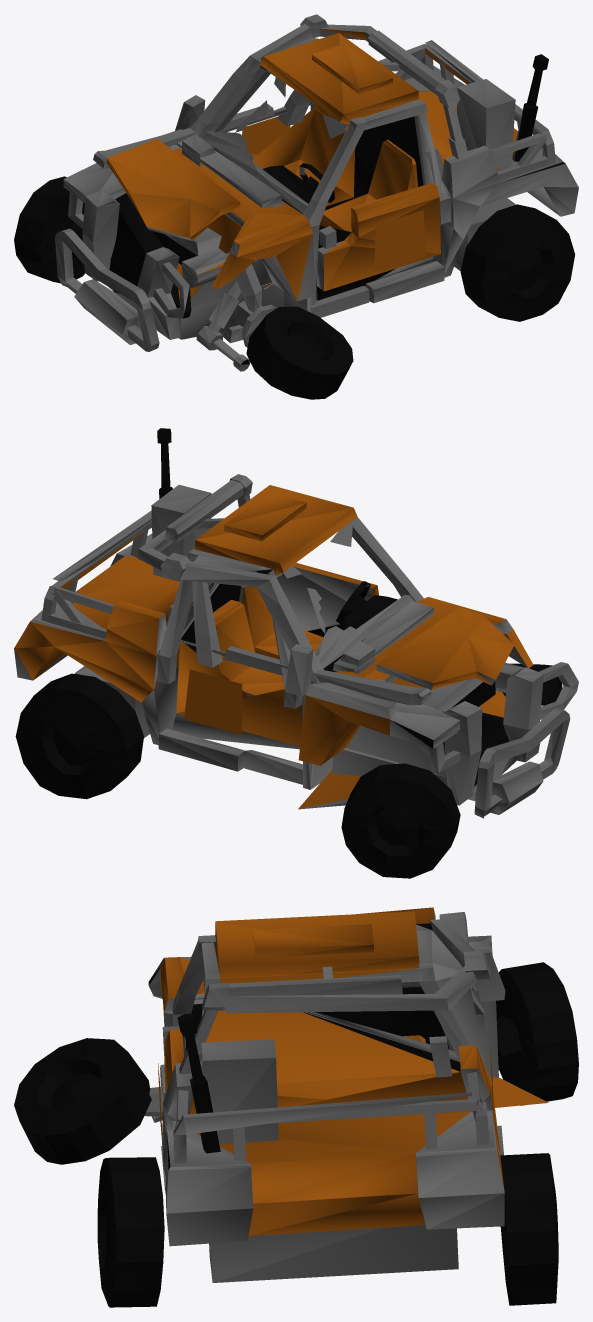
The model's file is wrecked car.glb.
The picture shows the model from 3 angles, top to bottom: view 1: azimuth 30°, elevation 25°; view 2: azimuth 150°, elevation 25°; view 3: azimuth 270°, elevation 25°; orthographic projection. The views are drawn at different scales.
Visible parts, largest first — view 1: tripo_node_a145ef11-974d-469f-96bf-1b57e0480147; view 2: tripo_node_a145ef11-974d-469f-96bf-1b57e0480147; view 3: tripo_node_a145ef11-974d-469f-96bf-1b57e0480147.
Part boxes in pixels (x1,y1,x2,y2): tripo_node_a145ef11-974d-469f-96bf-1b57e0480147: [14, 14, 578, 399]; tripo_node_a145ef11-974d-469f-96bf-1b57e0480147: [14, 428, 578, 878]; tripo_node_a145ef11-974d-469f-96bf-1b57e0480147: [14, 907, 578, 1307].
Size of the model in its own units: 5.18 by 2.7 by 4.41.
